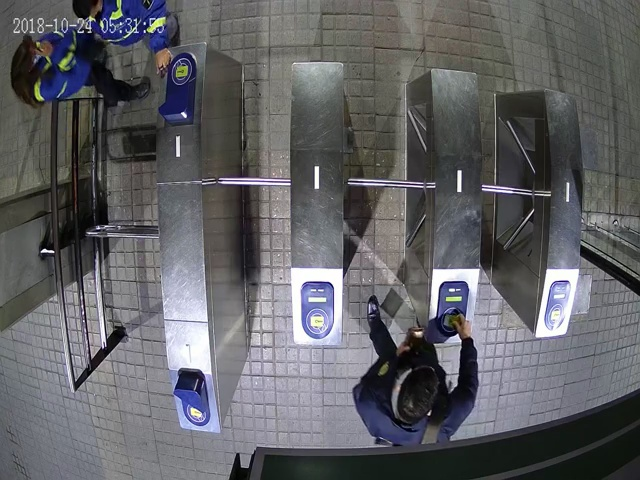Chaleco_azul: (9, 28, 151, 110), (71, 1, 179, 77)
